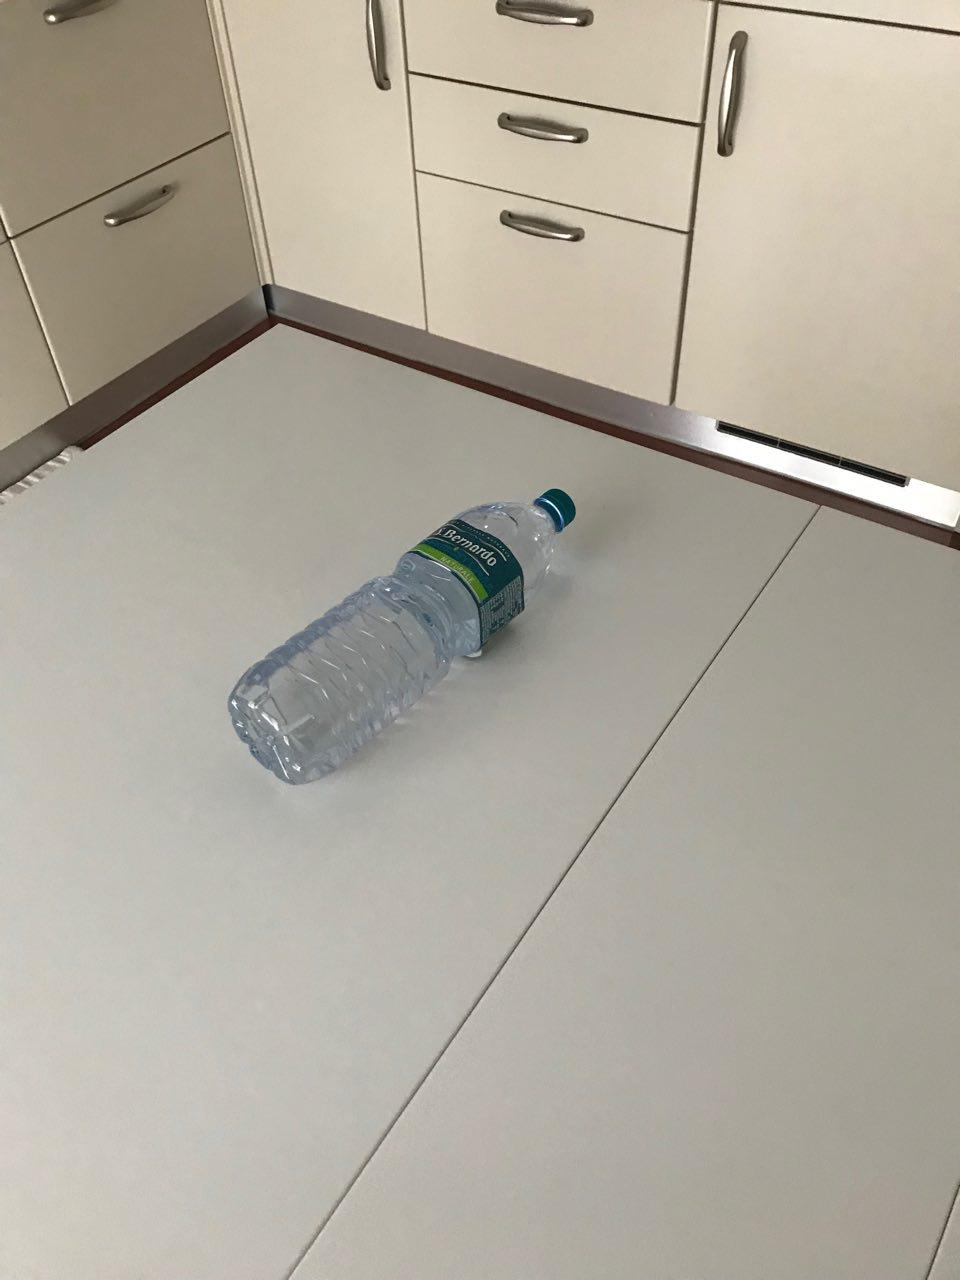san_bernardo: (225, 487, 579, 786)
